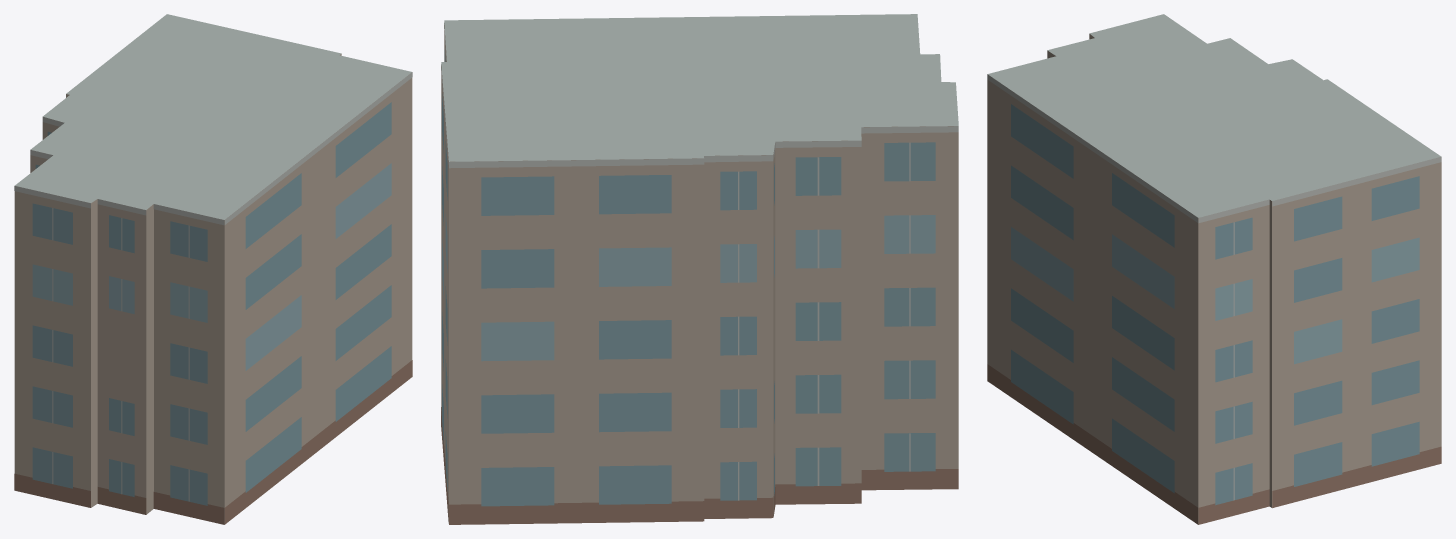
Rendered from survey-upis-32815189.glb.
The picture shows the model from 3 angles, left to right: view 1: azimuth 30°, elevation 25°; view 2: azimuth 150°, elevation 25°; view 3: azimuth 270°, elevation 25°; orthographic projection. The views are drawn at different scales.
Parts seen in each view (by area): view 1: survey-upis-32815189.tmp; view 2: survey-upis-32815189.tmp; view 3: survey-upis-32815189.tmp.
Part boxes in pixels (<box>): survey-upis-32815189.tmp: <box>14,14,412,524</box>; survey-upis-32815189.tmp: <box>441,14,958,524</box>; survey-upis-32815189.tmp: <box>987,14,1441,524</box>.
Size of the model in its own units: 19.81 by 13.9 by 18.65.
